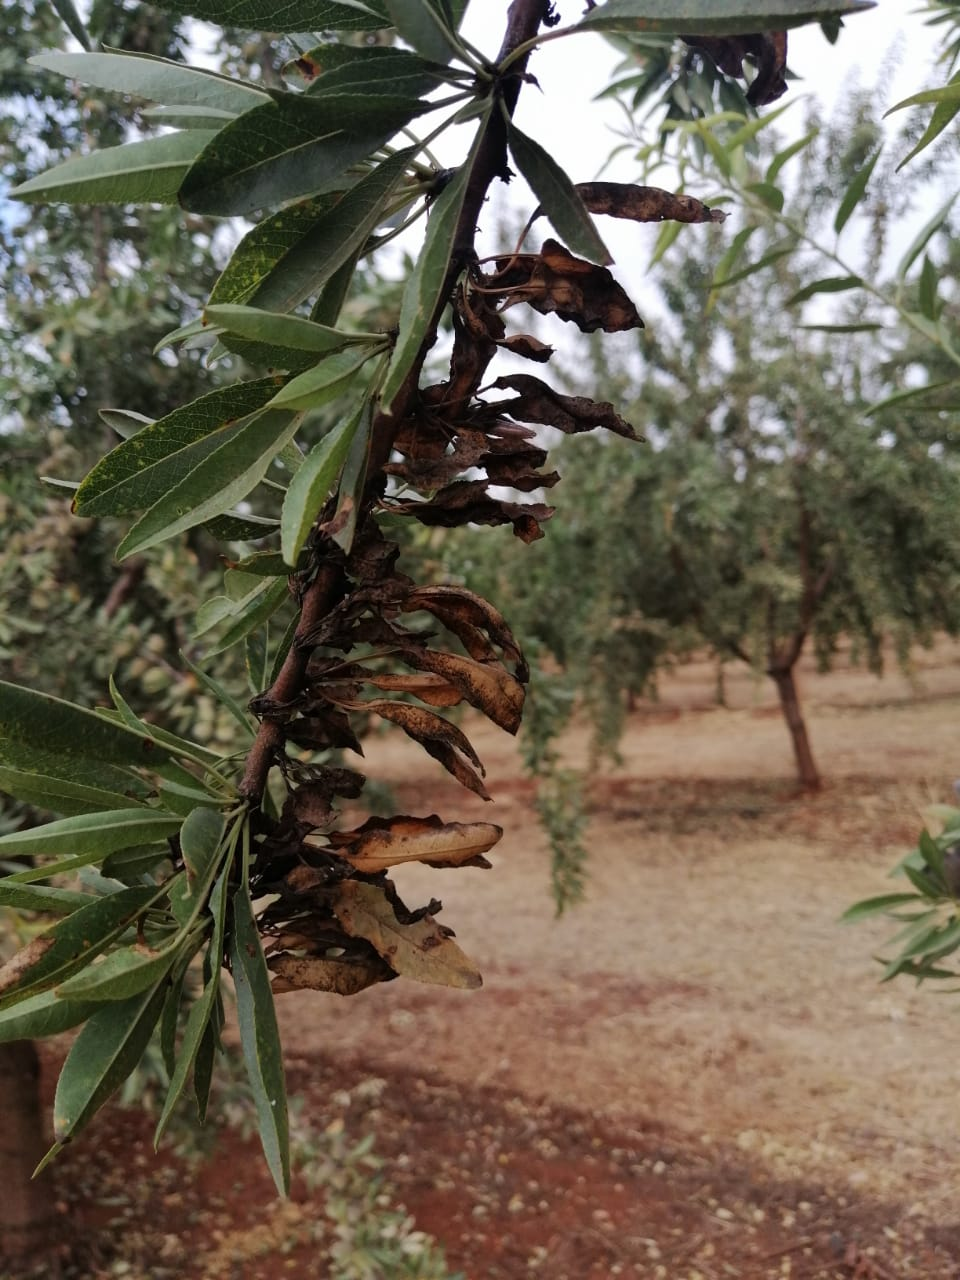scolytes: (237, 142, 725, 999)
